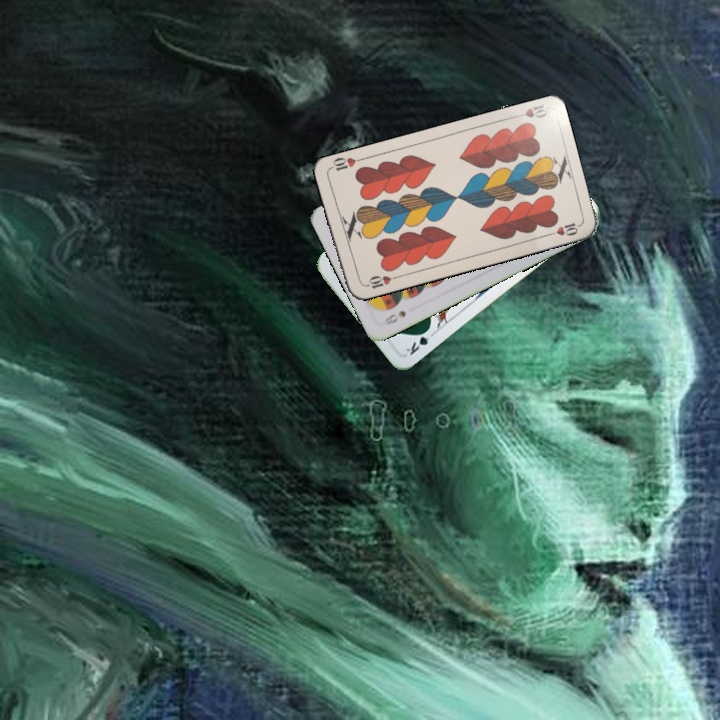GK: (402, 324, 433, 358)
H10: (509, 100, 551, 121), (360, 271, 400, 292)
S8: (381, 307, 409, 328)
